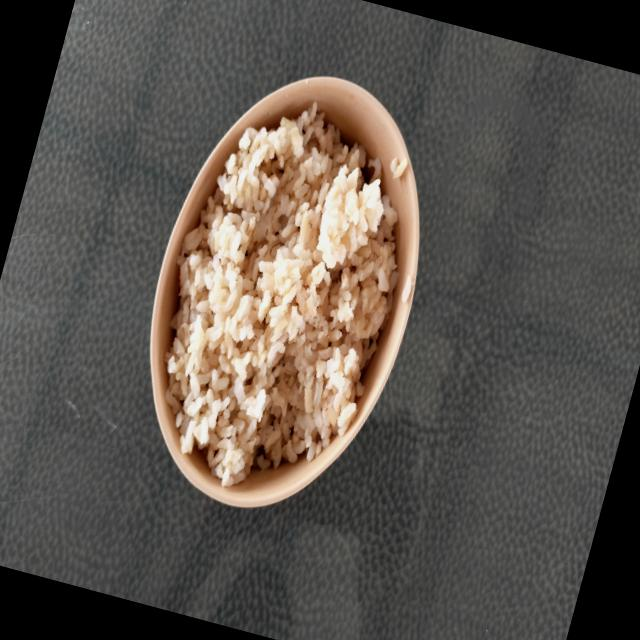brown-rice: (165, 104, 398, 487)
